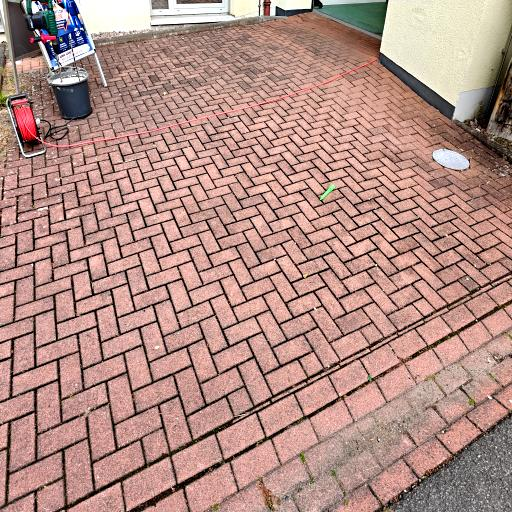Probe-Detection: (320, 184, 335, 200)
